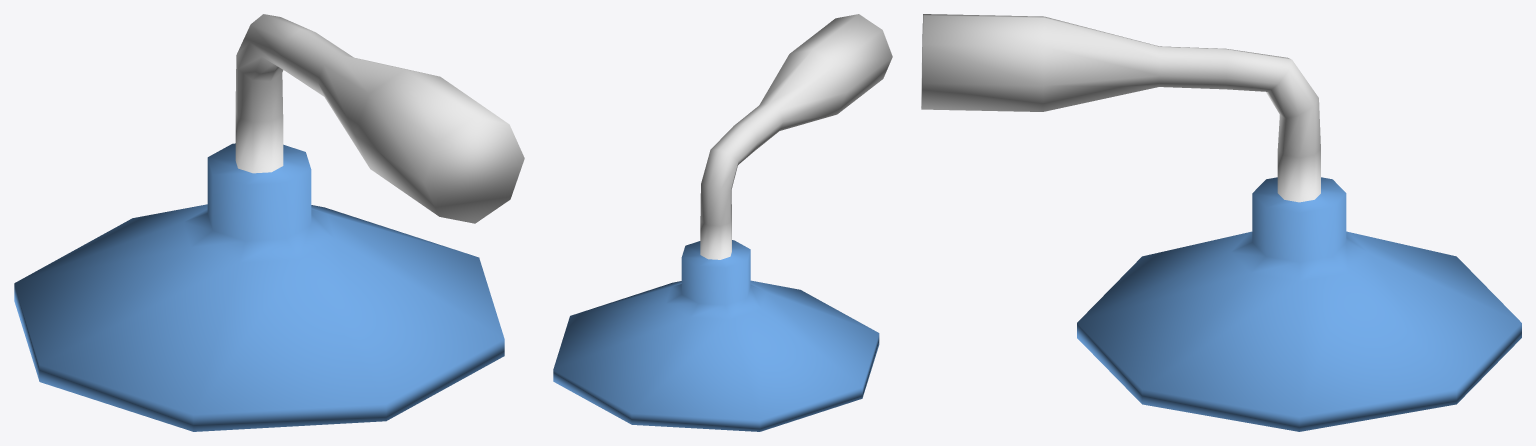
File: LampWall.fbx
3 views of the same model, side by side, from view 1: azimuth 30°, elevation 25°; view 2: azimuth 150°, elevation 25°; view 3: azimuth 270°, elevation 25° (orthographic). The views are drawn at different scales.
Parts seen in each view (by area): view 1: LampWall; view 2: LampWall; view 3: LampWall.
Part boxes in pixels (<box>): LampWall: <box>14,14,524,431</box>; LampWall: <box>553,14,892,431</box>; LampWall: <box>921,14,1521,431</box>.
Bounding box in the file's own units: 32.05 × 29.09 × 43.27.
